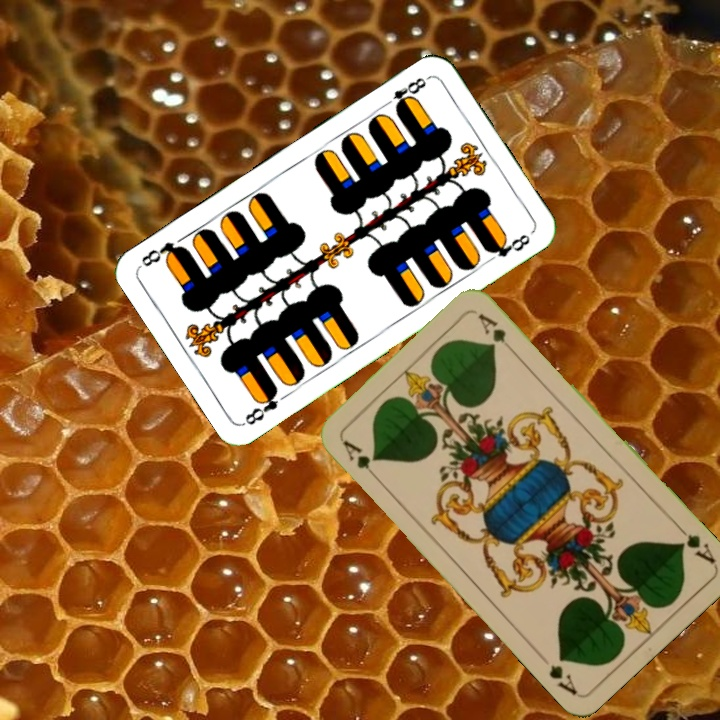E8: (378, 73, 431, 113), (240, 383, 281, 428)
GA: (672, 520, 718, 567), (337, 435, 382, 482)
